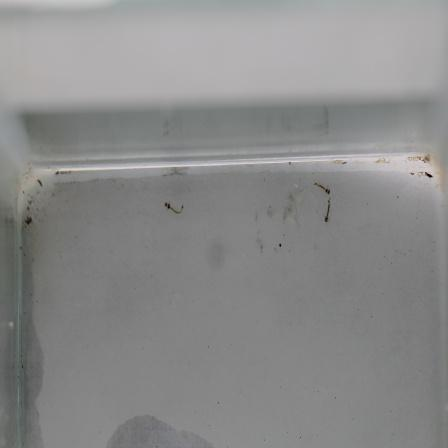Jentik-Nyamuk: (309, 176, 335, 227), (159, 196, 187, 220)
